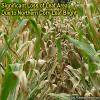Corn leaf blight: (0, 18, 43, 64), (54, 33, 99, 73), (0, 70, 28, 99), (61, 65, 86, 91), (9, 40, 35, 64), (84, 1, 99, 41), (25, 80, 55, 99), (34, 58, 52, 82), (66, 77, 86, 97), (17, 31, 32, 53), (39, 48, 57, 63)
